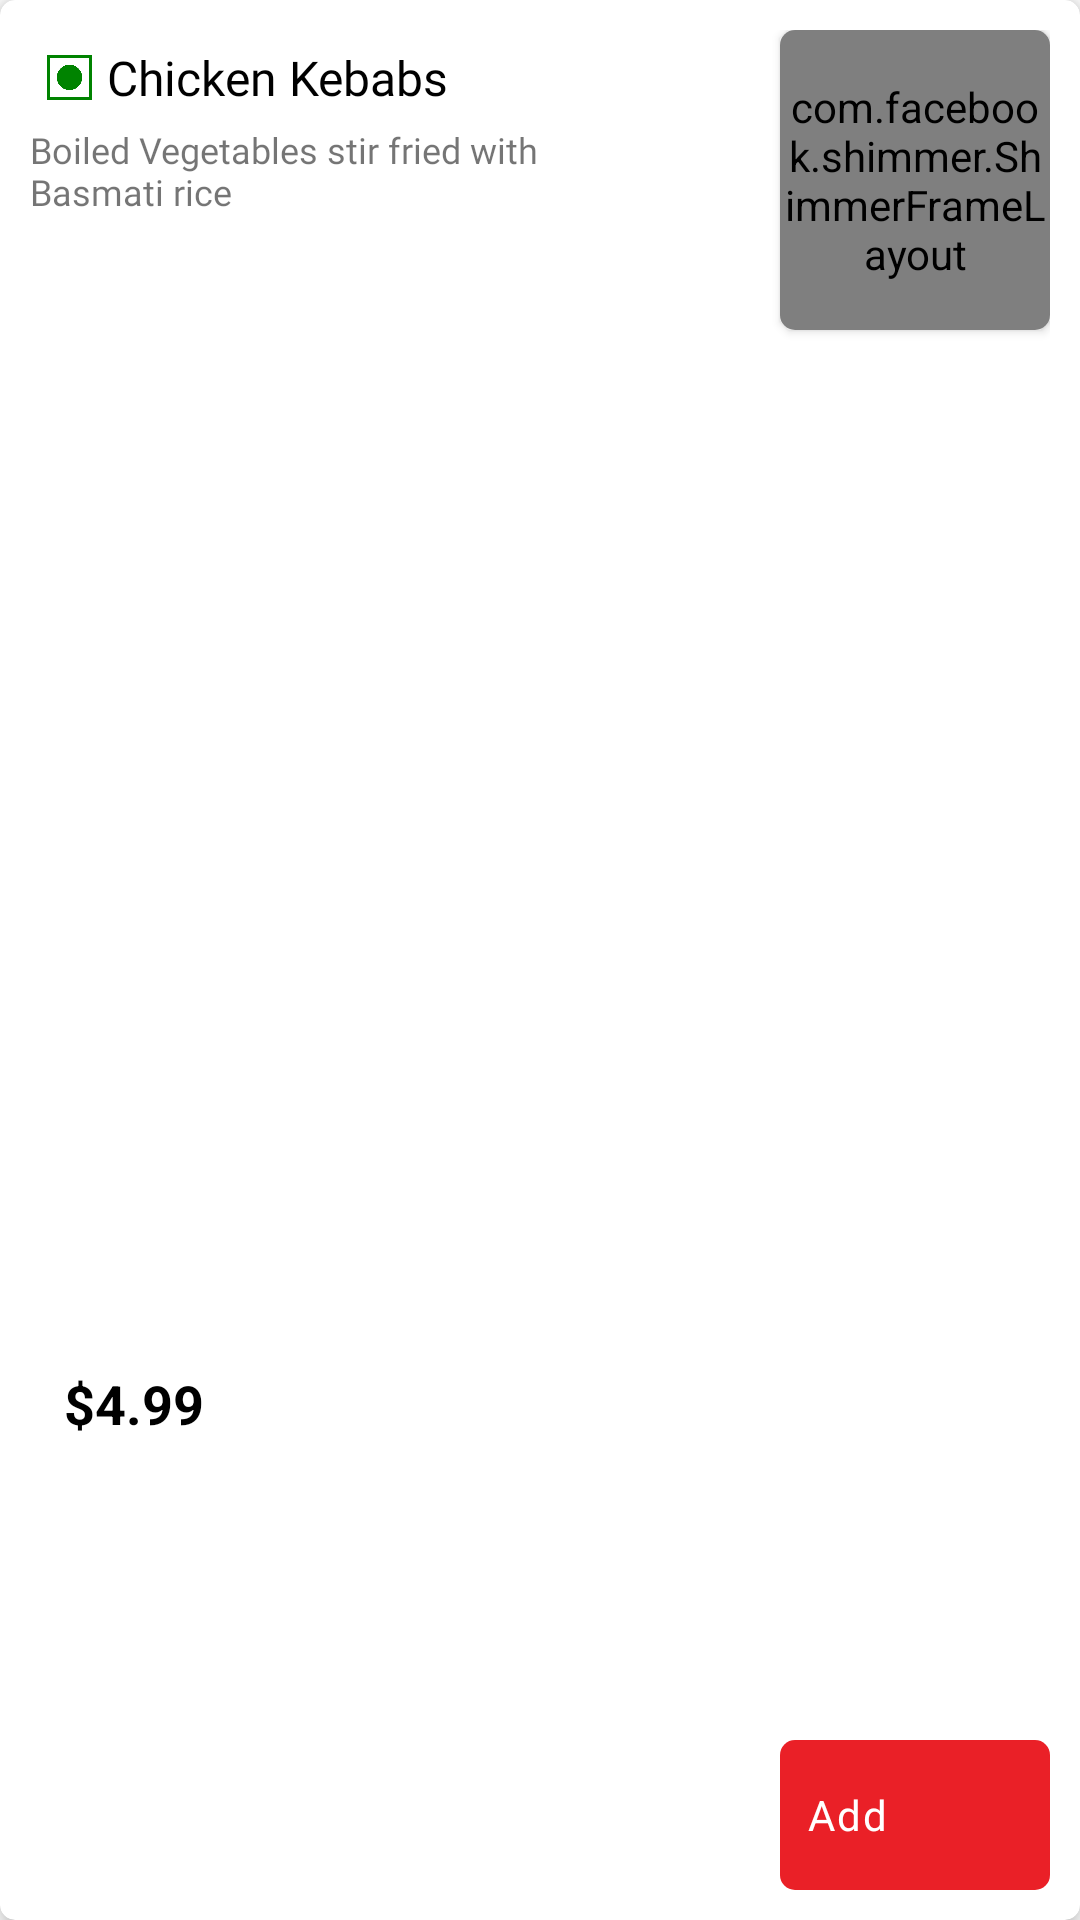

Where to tap for icons on this 1080 x 1920 app screen, as (x=x, y=y):
veg: (x=69, y=77)
